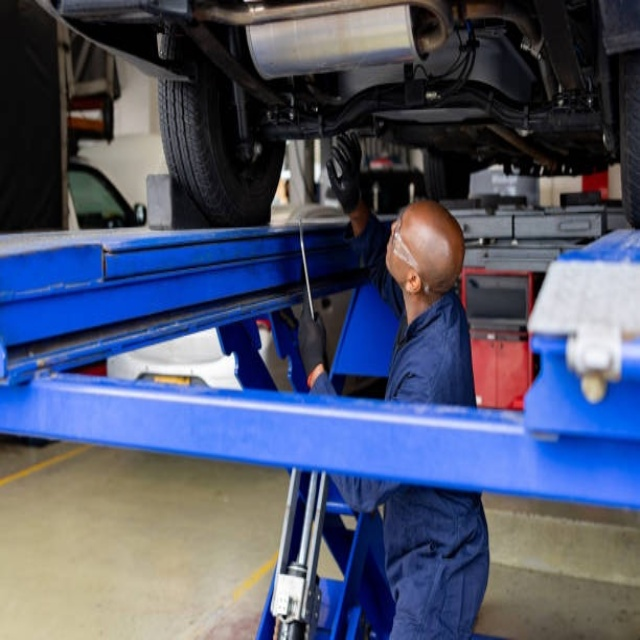Gafas: (391, 219, 430, 289)
Guantes: (325, 130, 362, 214), (296, 299, 327, 381)
